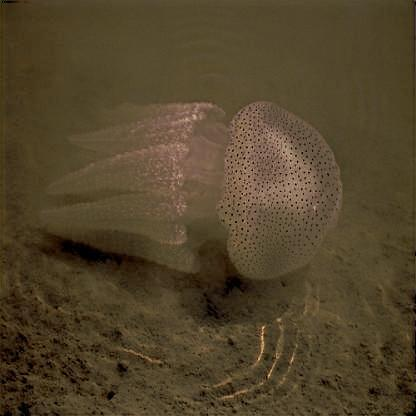Handstand: (36, 105, 344, 279)
